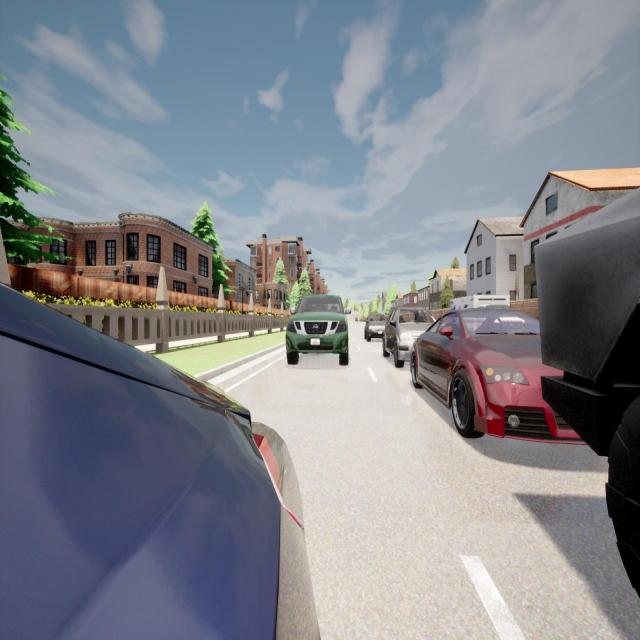Vehicle: (0, 279, 321, 640), (532, 187, 640, 600), (411, 309, 588, 445), (285, 296, 351, 366), (382, 306, 437, 368), (448, 295, 512, 308), (365, 314, 386, 342), (354, 314, 359, 322)
